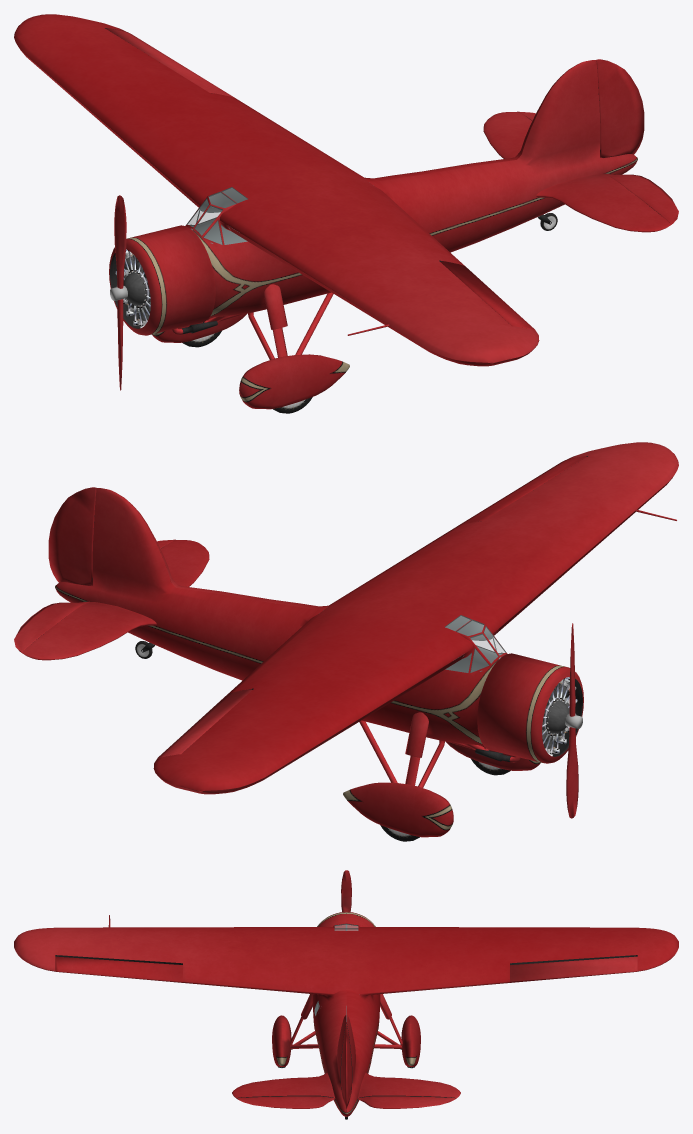
3 renders of one model, top to bottom at view 1: azimuth 30°, elevation 25°; view 2: azimuth 150°, elevation 25°; view 3: azimuth 270°, elevation 25°, orthographic. The views are drawn at different scales.
Visible parts, largest first — view 1: Mesh_20; view 2: Mesh_20; view 3: Mesh_20.
Part boxes in pixels (left/top/right/bottom): Mesh_20: left=14, top=14, right=678, bottom=413; Mesh_20: left=14, top=442, right=678, bottom=841; Mesh_20: left=14, top=870, right=678, bottom=1119.
Size of the model in its own units: 822 by 347 by 1248.
4 materials, 3 textured.
